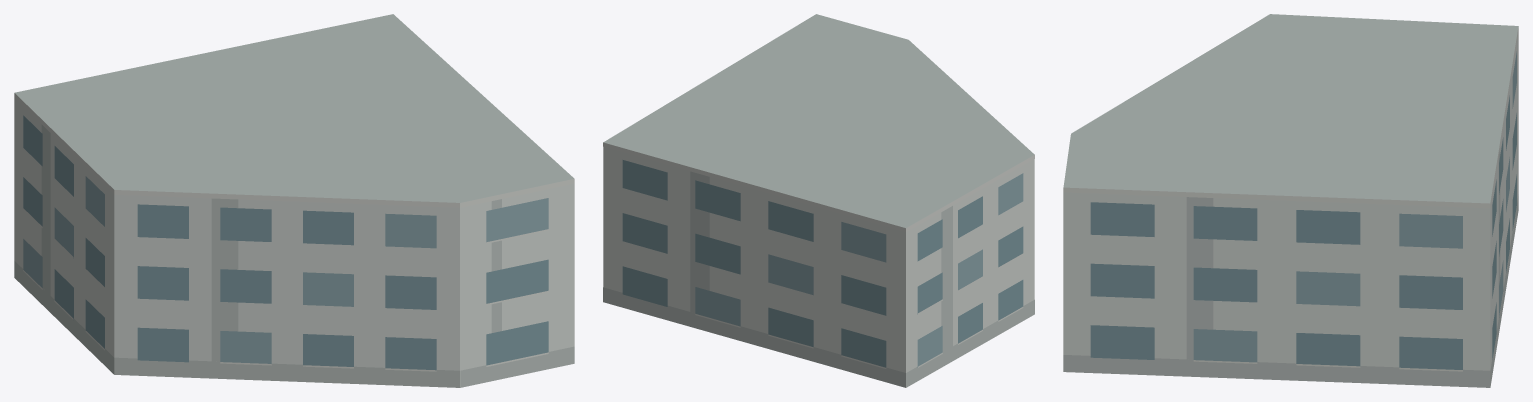
The model's file is survey-upis-32808285.glb.
The picture shows the model from 3 angles, left to right: view 1: azimuth 30°, elevation 25°; view 2: azimuth 150°, elevation 25°; view 3: azimuth 270°, elevation 25°; orthographic projection. The views are drawn at different scales.
Visible parts, largest first — view 1: survey-upis-32808285.tmp; view 2: survey-upis-32808285.tmp; view 3: survey-upis-32808285.tmp.
Part boxes in pixels (bbox=[...]): survey-upis-32808285.tmp: bbox=[14, 14, 574, 387]; survey-upis-32808285.tmp: bbox=[603, 14, 1034, 387]; survey-upis-32808285.tmp: bbox=[1063, 14, 1518, 387].
Bounding box in the file's own units: 20.17 × 9.15 × 20.47.
